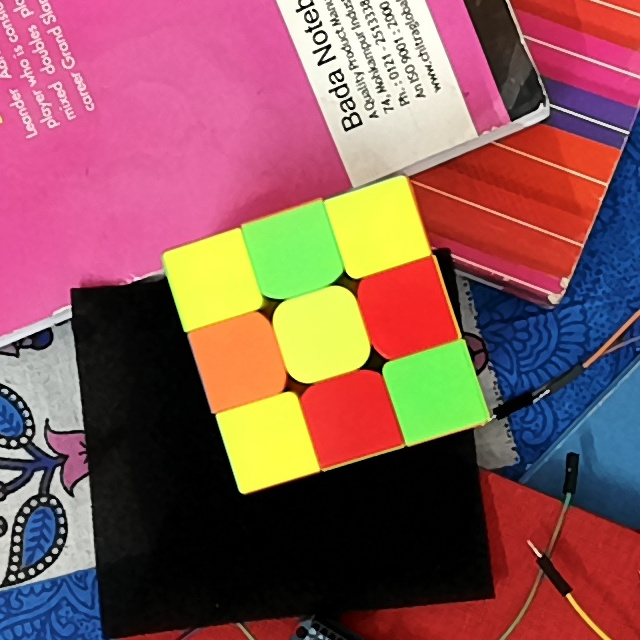tile: (372, 277, 439, 342), (402, 361, 468, 422), (345, 199, 410, 260), (319, 385, 383, 446), (210, 330, 273, 391), (289, 305, 354, 364), (183, 250, 244, 309), (266, 222, 325, 283), (237, 412, 299, 470)
